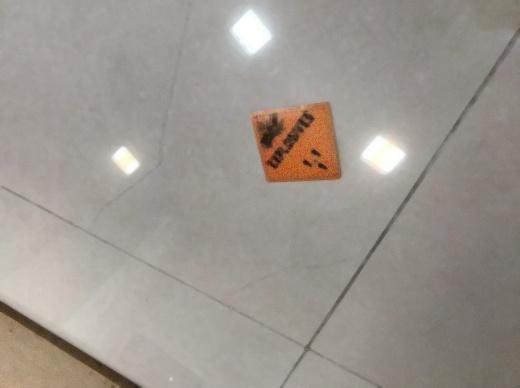explosive: (248, 101, 343, 184)
